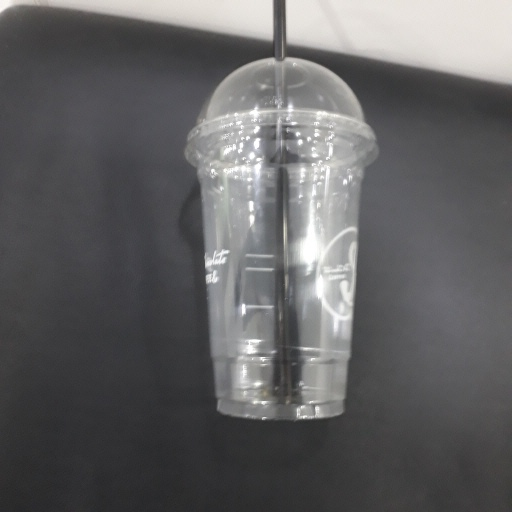Plastic_2: (180, 3, 385, 425)
